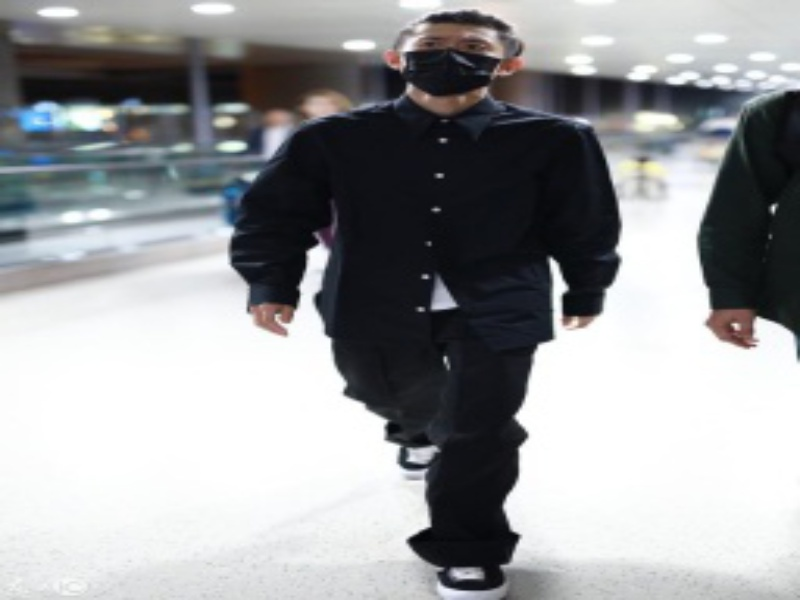ManaoArotava: (380, 4, 532, 123)
